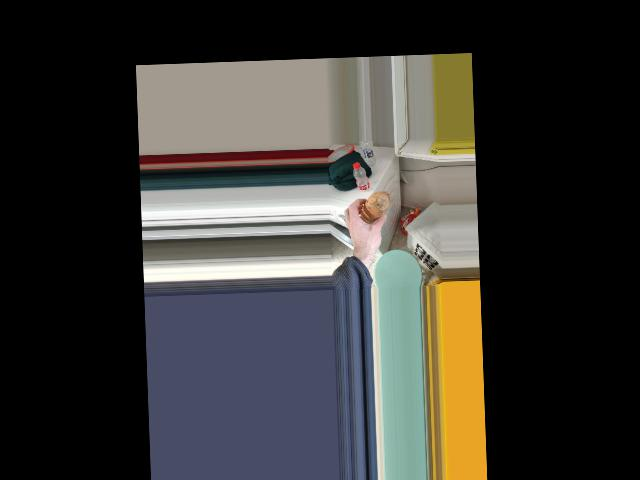sweet_potato: (359, 191, 389, 226)
